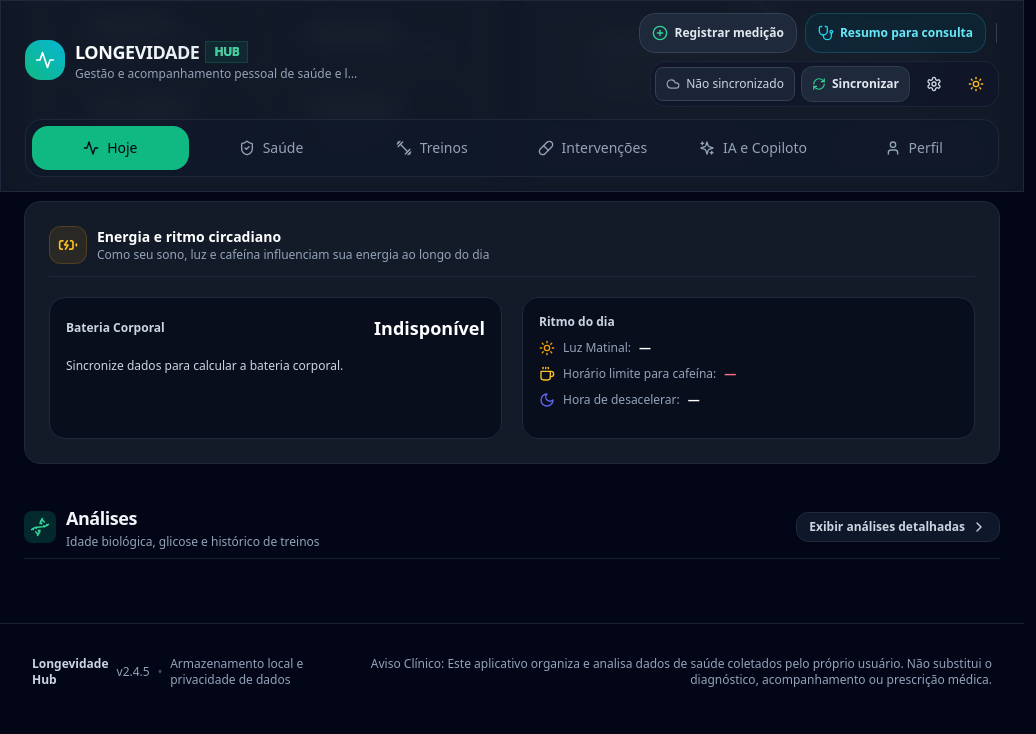
Test: App › allows expanding and collapsing Análises in Overview
(page scrolled)
What coordinates should you click on to do the following:
click the button with aria-label "exibir detalhes de análises"
I would click on:
 (898, 527)
Its box is left=796, top=512, right=1000, bottom=542.
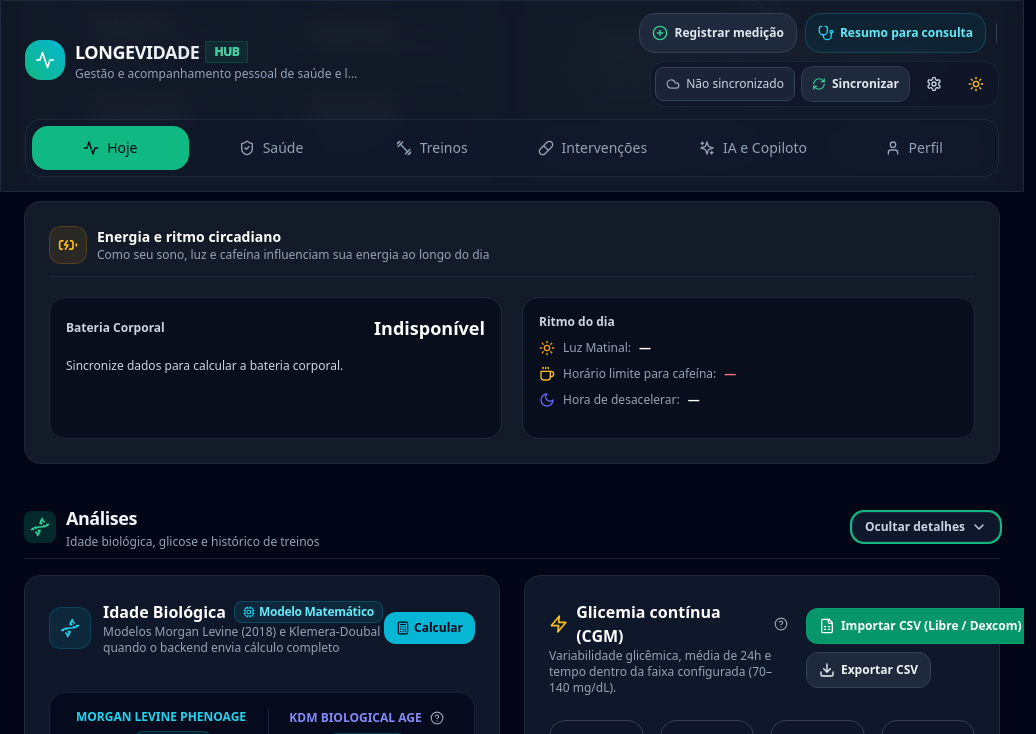
Result: the button named "exibir detalhes de análises" is expanded at left=852, top=512, right=1000, bottom=542
